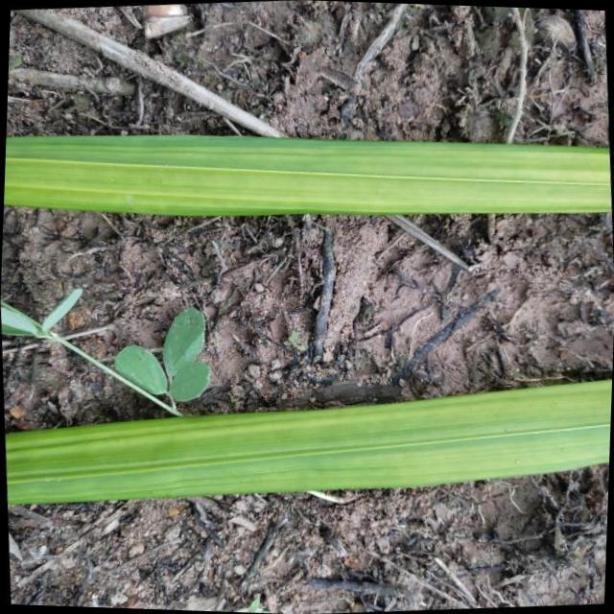nitrogen: (1, 377, 614, 506), (0, 128, 614, 219)
